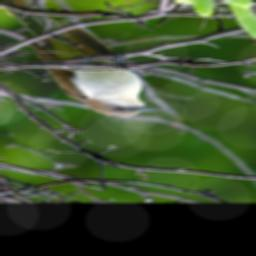Cuckoo: (0, 0, 156, 118)
